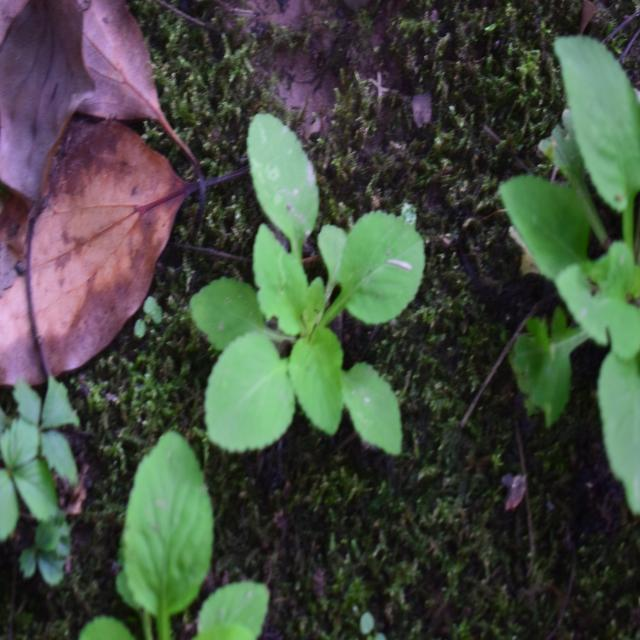Viola: (175, 118, 427, 493)
